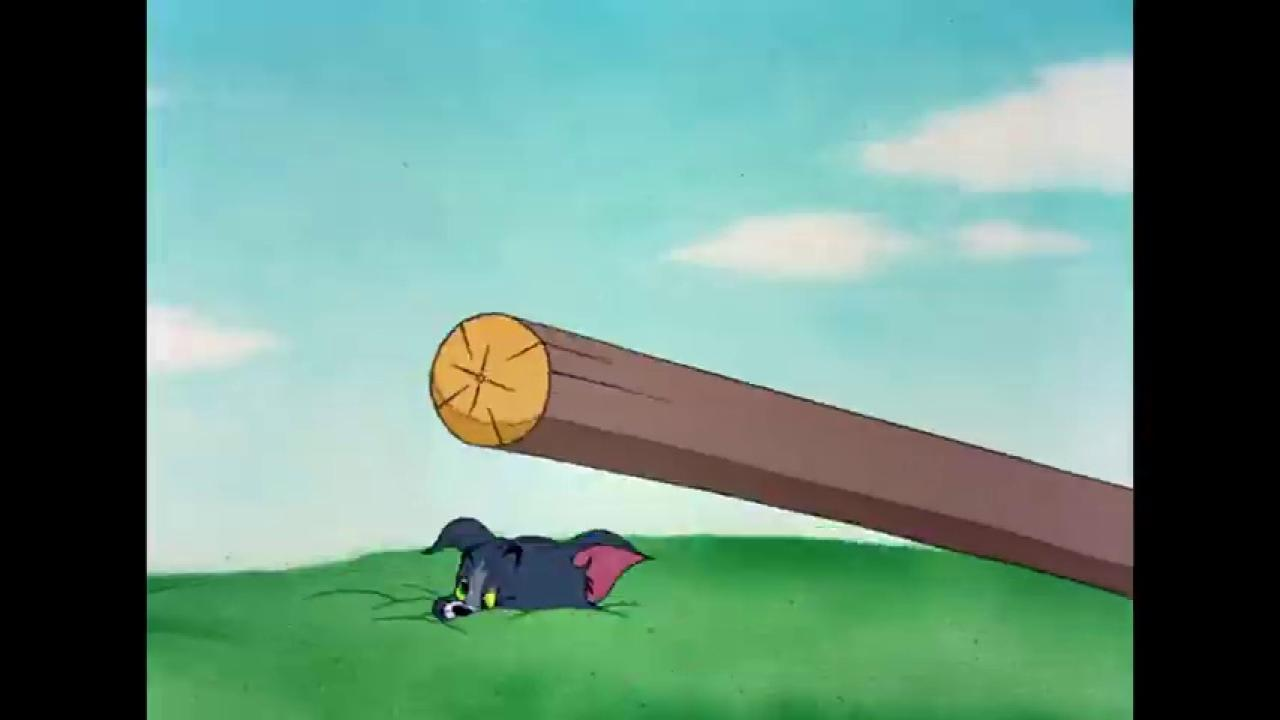Tom: (417, 515, 658, 625)
